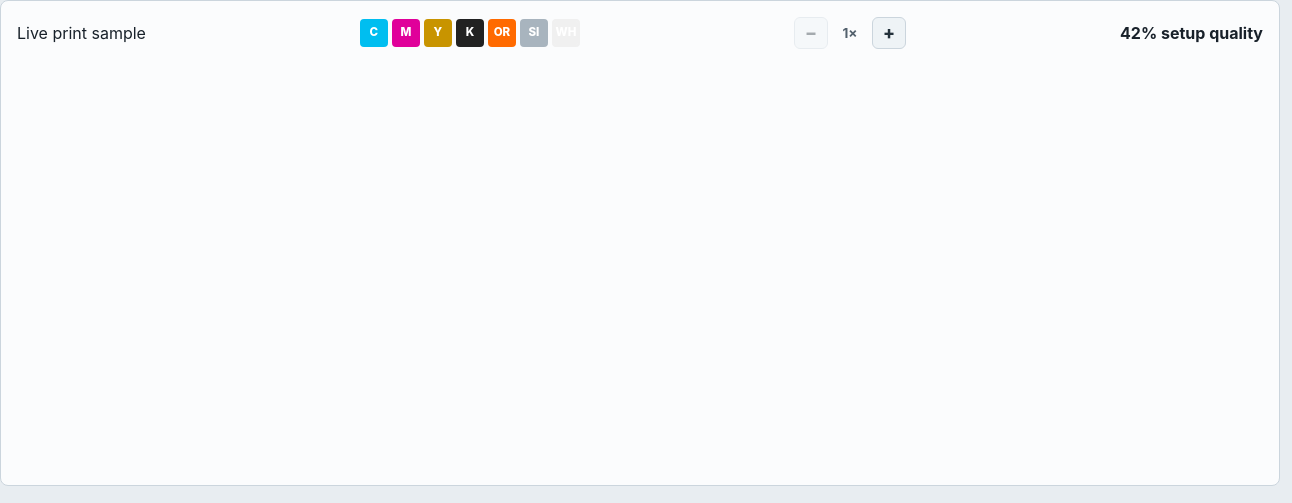
Test: PrintPreview › steps to 4× when zoom in is clicked once
Click the button named "Zoom in" at (889, 33), box [872,17,906,49]
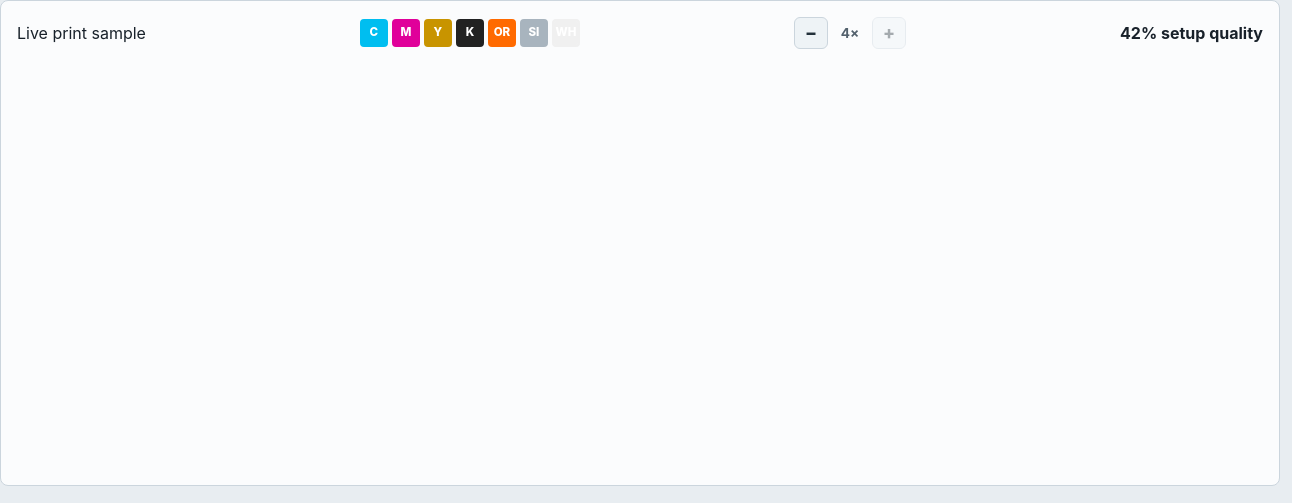
Check: the text "4×" is shown, box [841,25,859,41]
